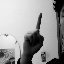d: (22, 11, 45, 57)
